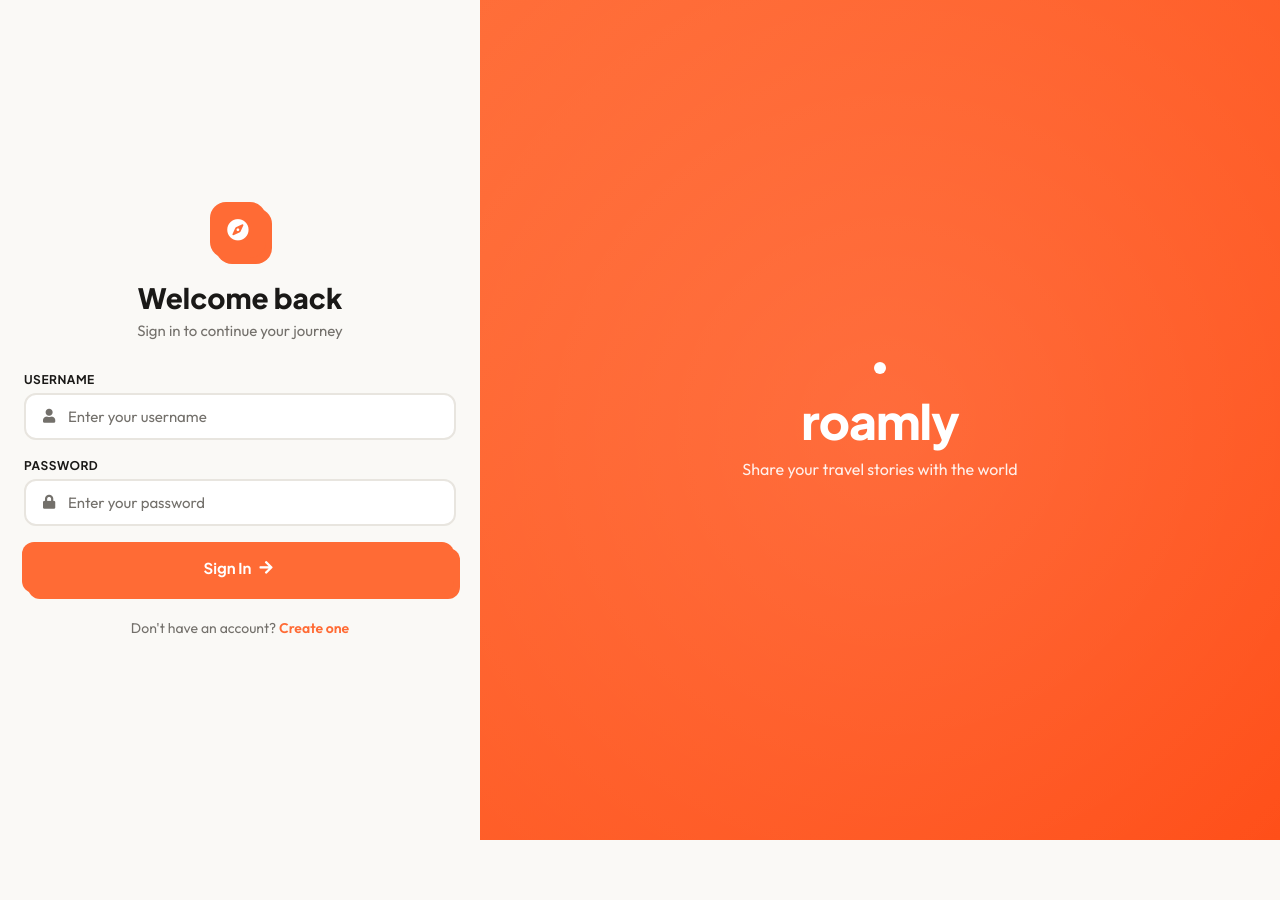
Test: Login Page › shows error message on failed login
Type "user" into the field labelled "Username" at coordinates (254, 416), box [68,394,440,438]
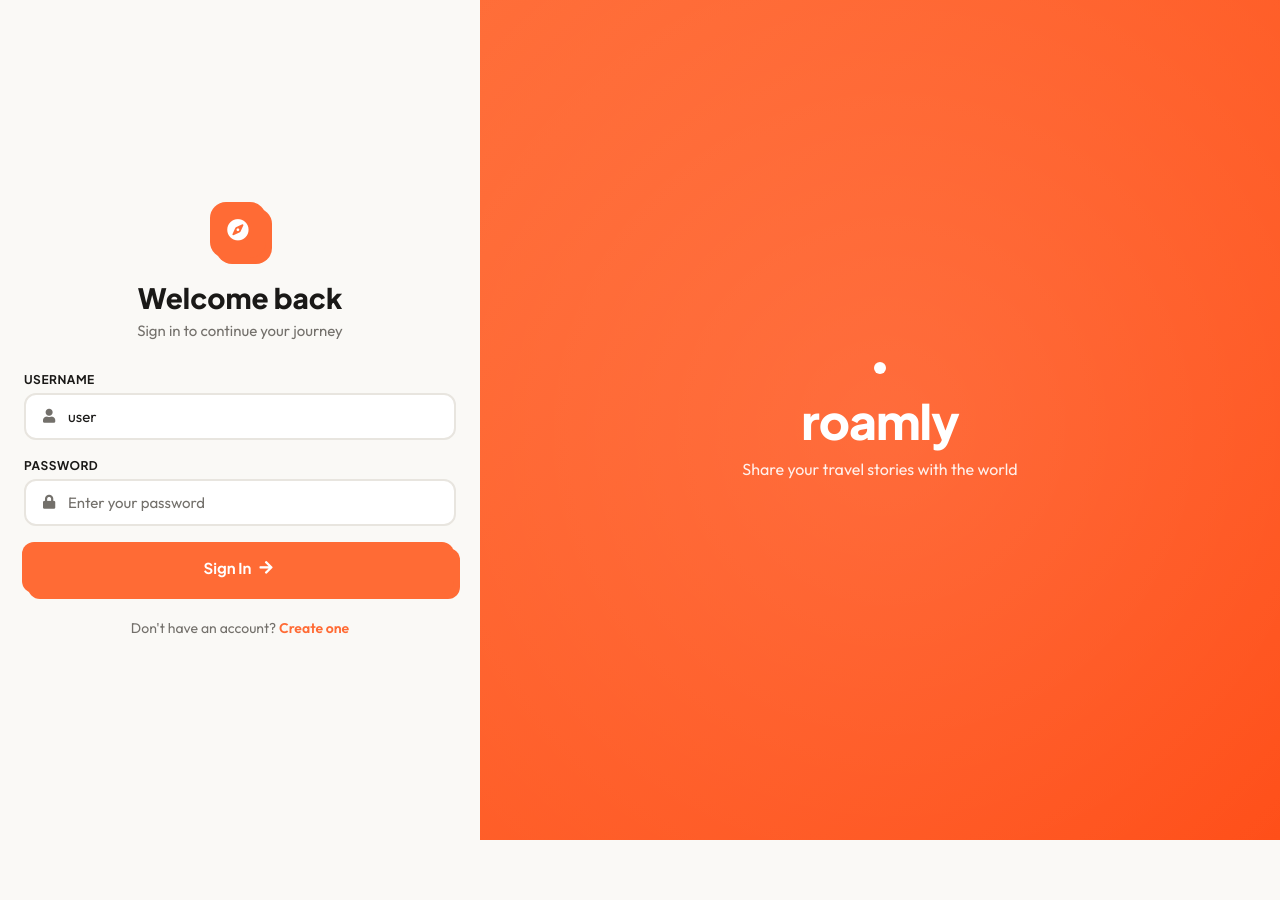
Type "pass" into the password field labelled "Password" at coordinates (254, 502), box [68,480,440,524]
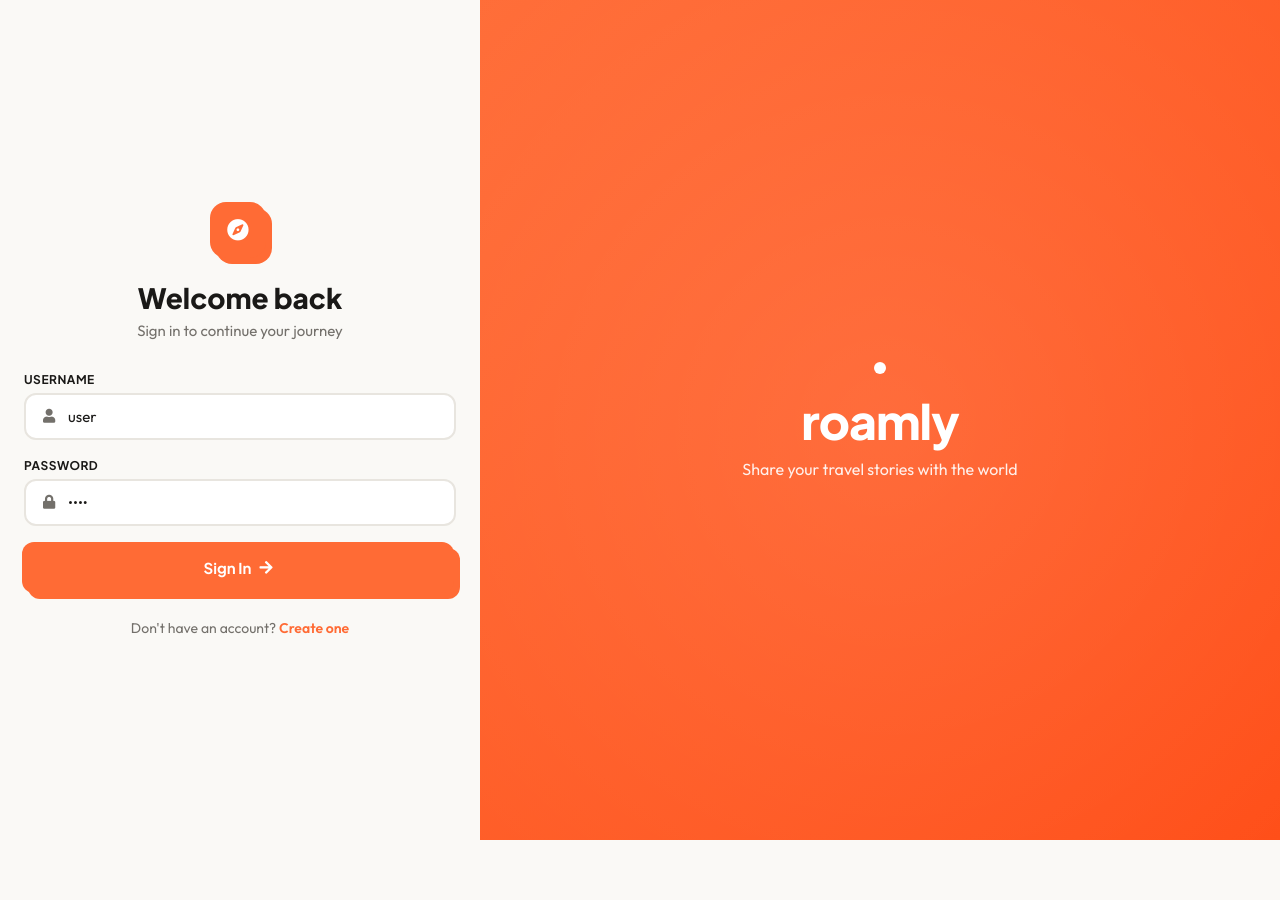
Click the button "Sign In" at coordinates (238, 567), box [22,542,454,592]
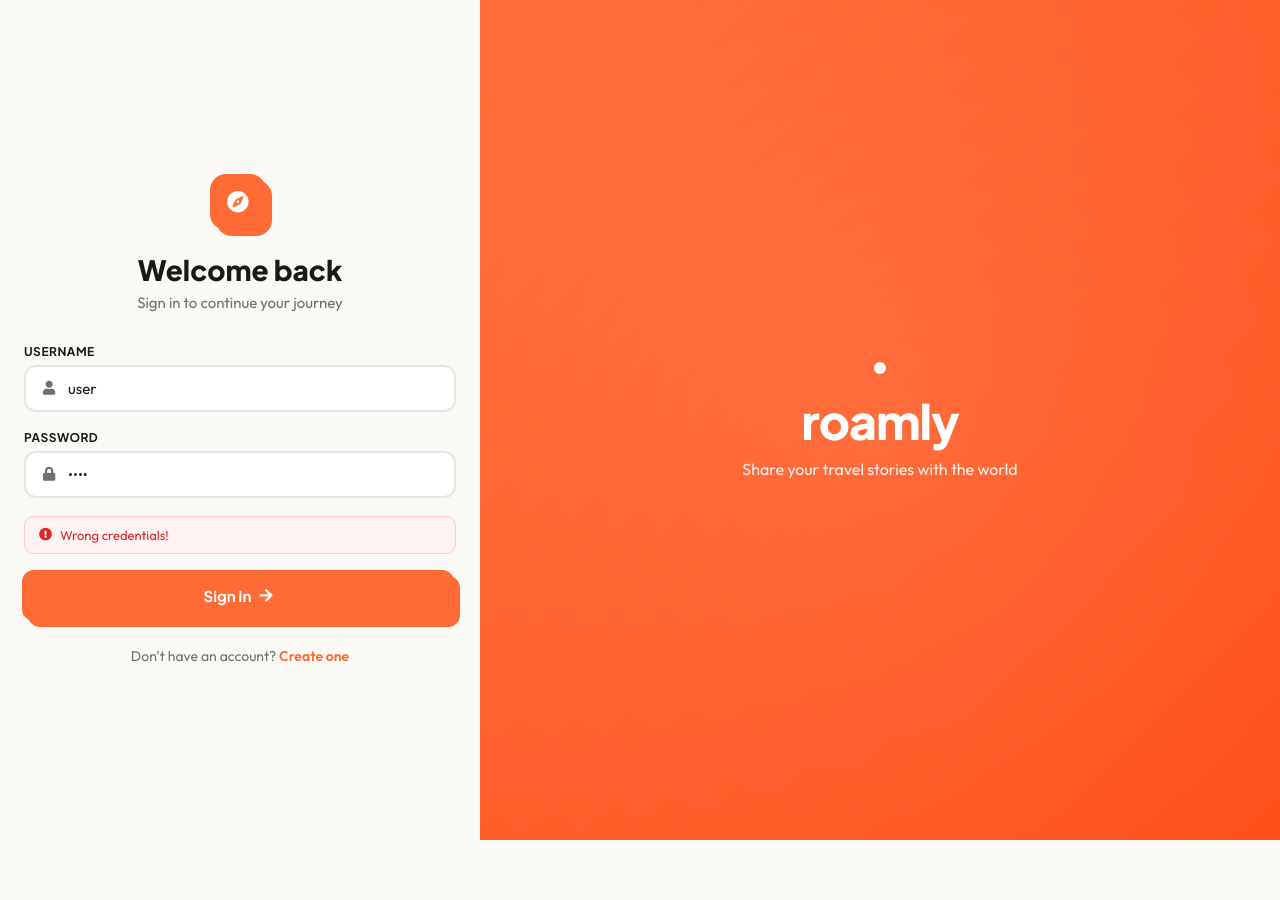
Check: the text "Wrong credentials!" is shown, box [24,516,456,554]
